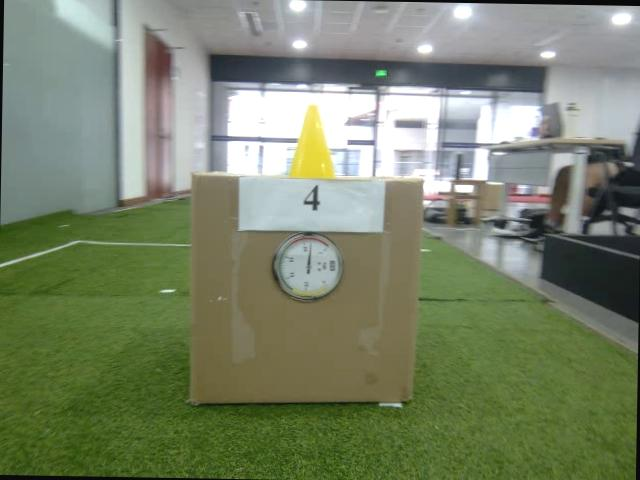4: (302, 184, 322, 212)
Dashboard: (271, 230, 343, 302)
ssi: (328, 260, 337, 272)
yellow_barrel: (286, 106, 336, 180)
